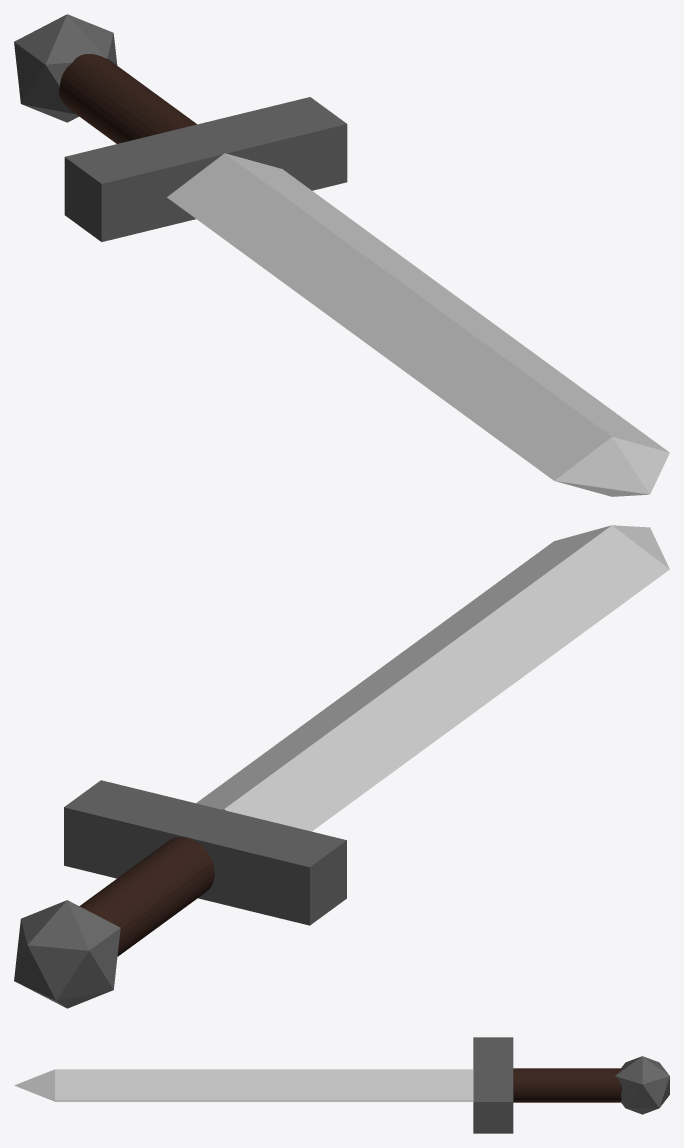
Rendered from Sword.fbx.
3 views of the same model, one above another, from view 1: azimuth 30°, elevation 25°; view 2: azimuth 150°, elevation 25°; view 3: azimuth 270°, elevation 25° (orthographic). The views are drawn at different scales.
Visible parts, largest first — view 1: Cube; view 2: Cube; view 3: Cube.
Part boxes in pixels (<box>): Cube: <box>14,14,669,496</box>; Cube: <box>14,525,669,1008</box>; Cube: <box>14,1037,669,1133</box>.
Bounding box in the file's own units: 21.88 × 9.24 × 93.77.
